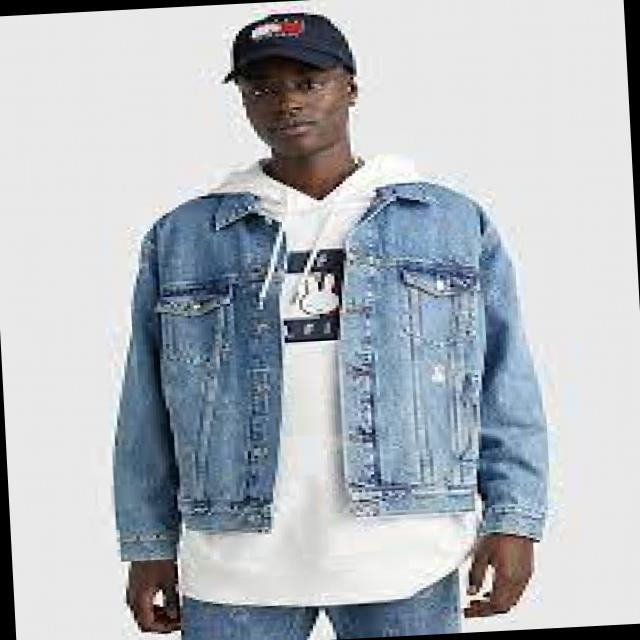Jacket: (75, 156, 572, 591)
